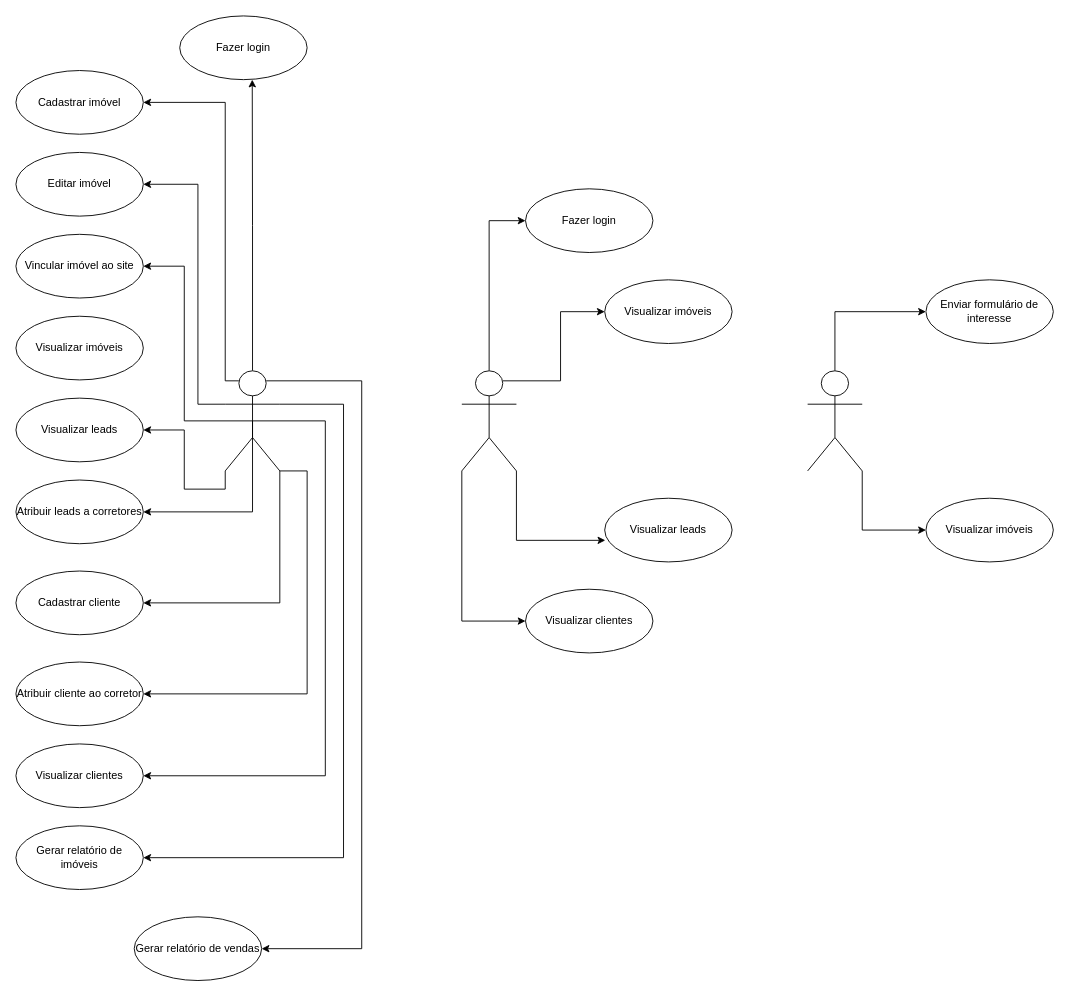
Some shapes in this 1069 by 996 pixel diagram are drawn without their labels. Each missing label, with the centre of its shape:
Administrador: pixel 252 420
Cliente/LEAD: pixel 834 420
Corretor: pixel 488 420
